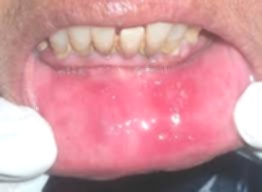Ulcer: (165, 78, 195, 110)
